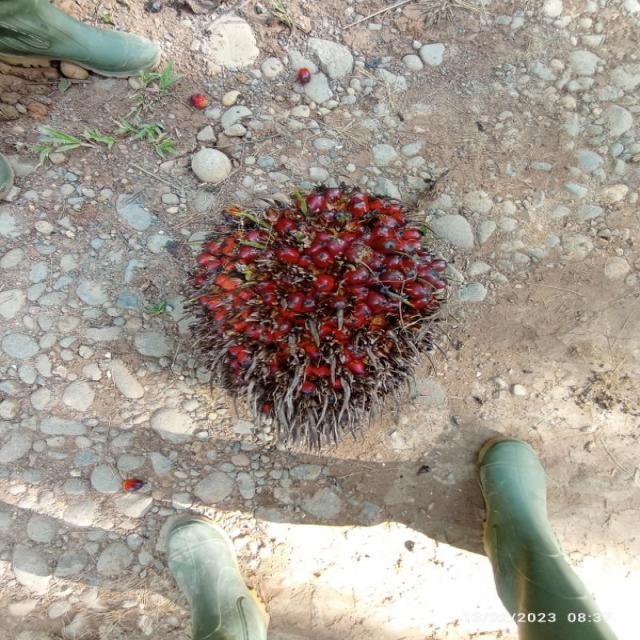fraksi 3: (155, 164, 471, 441)
